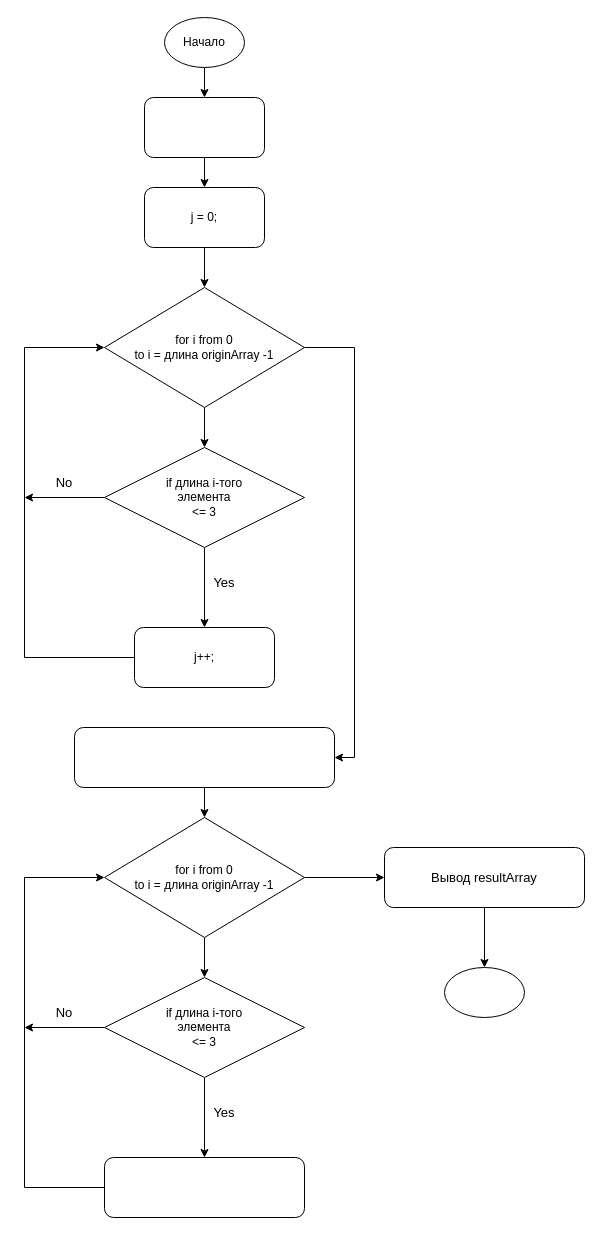
This 602x1235 diagram has some shape labels left out. The shapes that lost their labels are listed below. From the top down, each one's centre as x and y in pixels, then its label:
the point at 204,127: Получаем массив originArray
the point at 204,757: string[] resultArray = new string[ j ]; j = 0;
the point at 484,992: Конец
the point at 204,1187: resultArray[ j ] = originArray[i]; j++;
